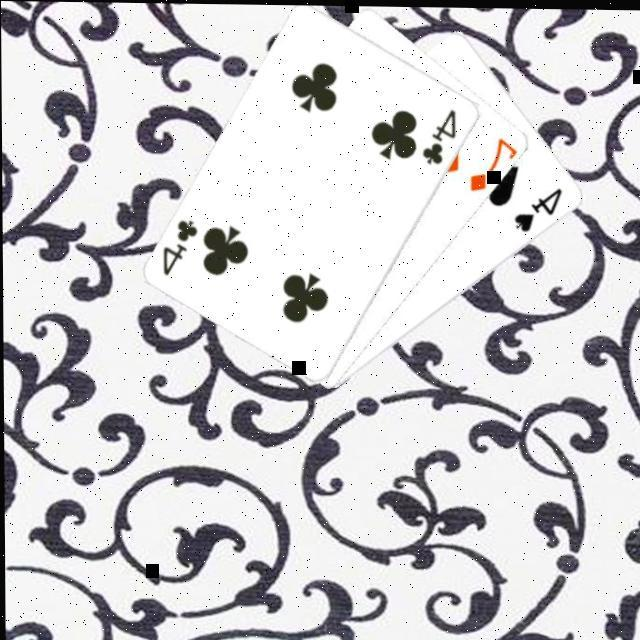4C: (157, 216, 199, 280), (416, 104, 458, 167)
4S: (509, 183, 565, 236)
7D: (465, 133, 517, 195)
